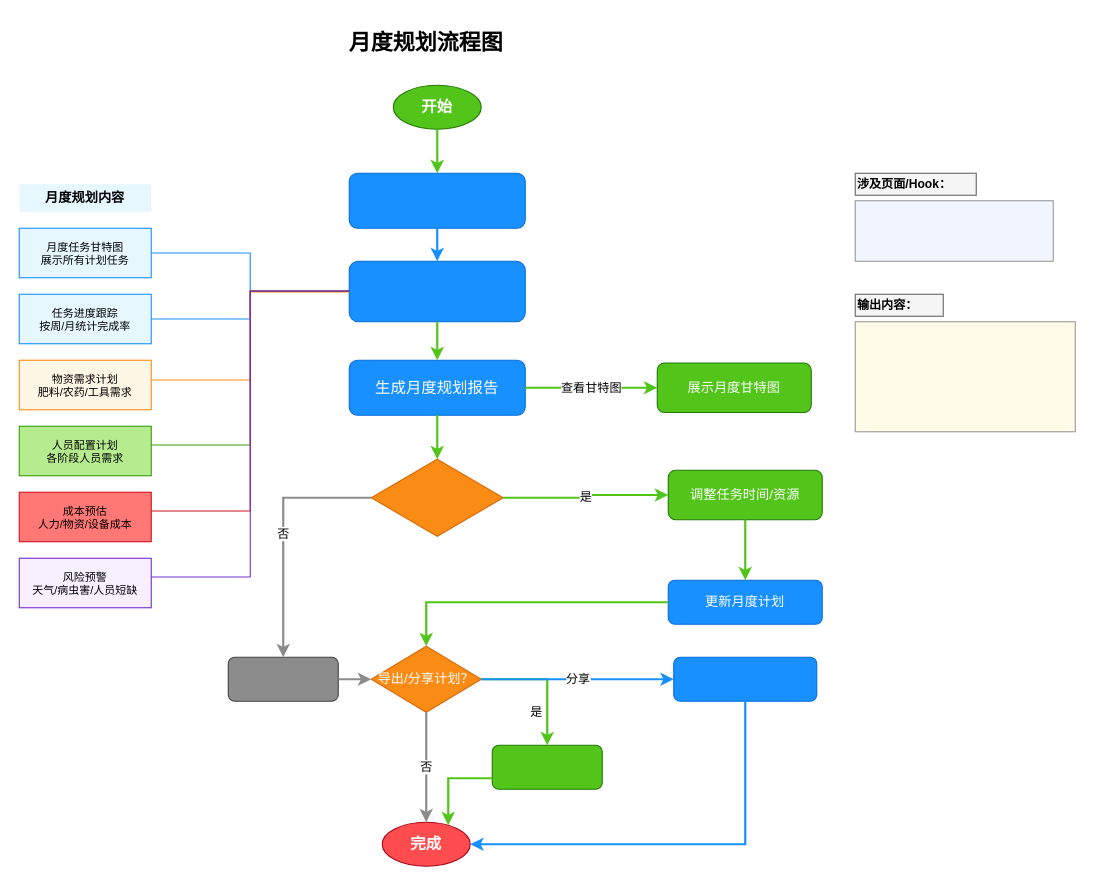
Some shapes in this 1095 by 886 pixel diagram are drawn without their labels. The shapes that lost their labels are listed below. From the top down, each one's centre as x and y in pixels, then its label:
the point at 436,200: 选择月份
the point at 953,230: MonthlyPlanningPage useMonthlyTaskPlanning useTasks
the point at 436,291: 调用useMonthlyTaskPlanning 分析月度任务数据
the point at 964,376: 1. 月度任务甘特图 2. 周/月进度统计表 3. 物资需求清单 4. 人员配置表 5. 成本预估报表 6. 风险预警提示
the point at 436,497: 需要调整计划？
the point at 282,678: 计划正常
the point at 745,678: 分享给团队成员
the point at 546,766: 导出Excel/Word/PDF
